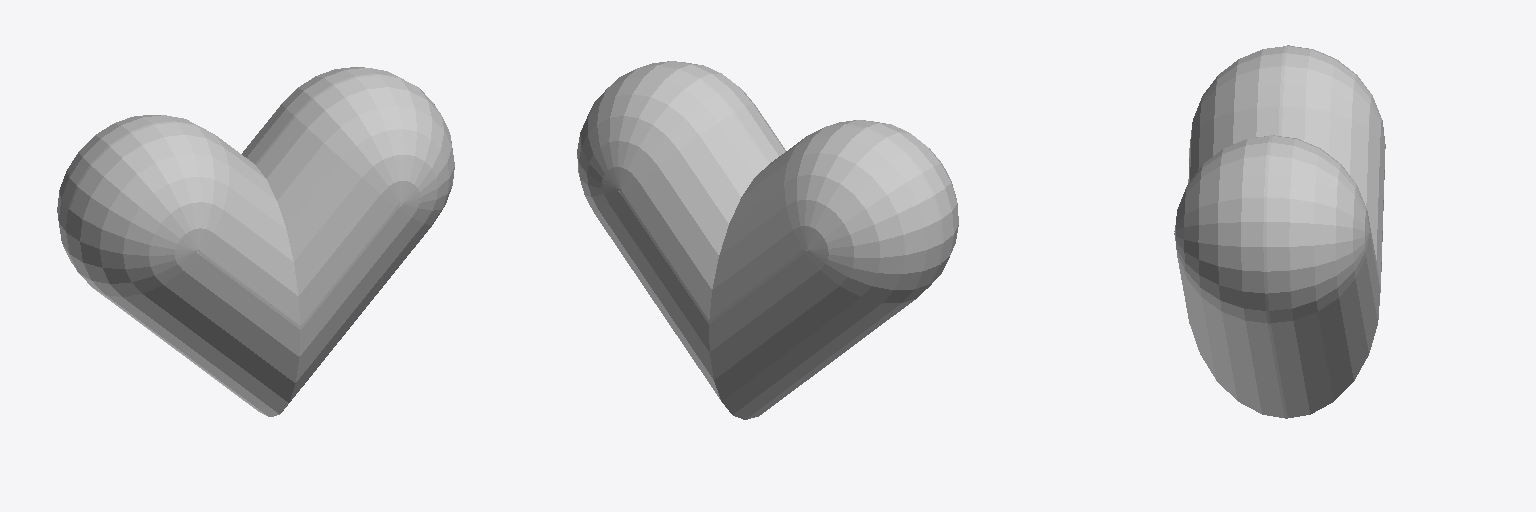
Rendered from heart.obj.
3 views of the same model, side by side, from view 1: azimuth 30°, elevation 25°; view 2: azimuth 150°, elevation 25°; view 3: azimuth 270°, elevation 25° (orthographic).
Parts seen in each view (by area): view 1: Cube; view 2: Cube; view 3: Cube.
Boxes of the visible parts, x1=… form: Cube: x1=57, y1=67, x2=454, y2=416; Cube: x1=577, y1=61, x2=958, y2=419; Cube: x1=1174, y1=45, x2=1385, y2=418.
Bounding box in the file's own units: 3.68 × 3.08 × 1.84.